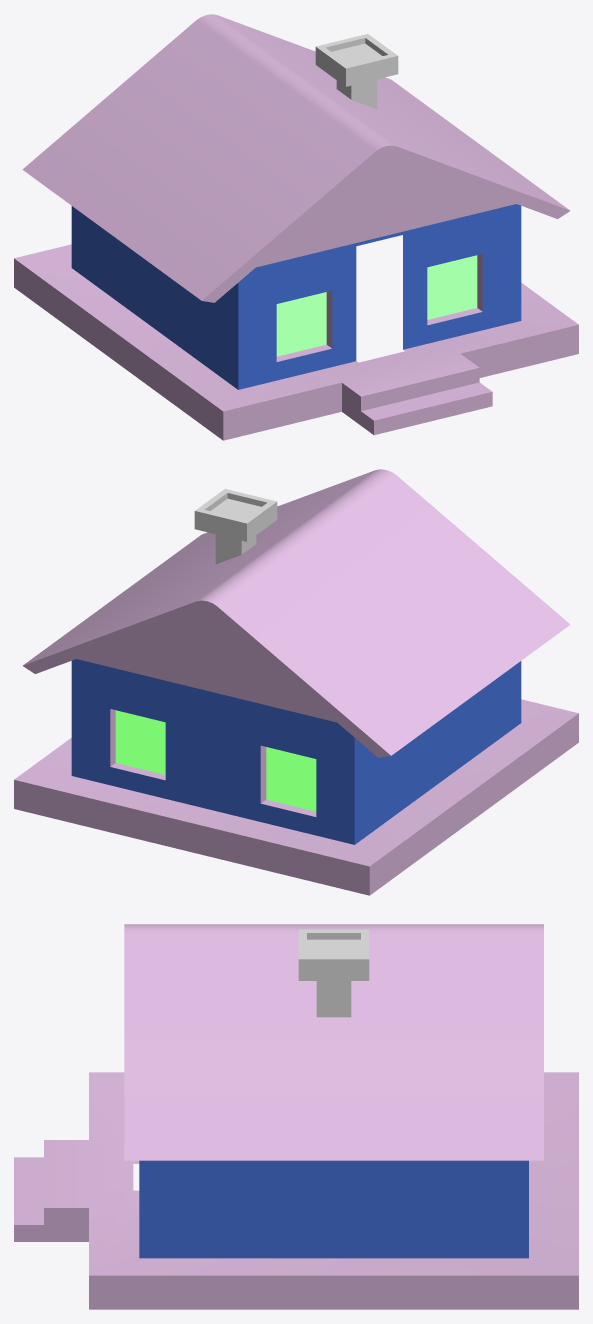
The model's file is 6660_autosave.fbx_Scene.fbx_Scene.fbx_Scene.fbx_Scene.fbx.
The picture shows the model from 3 angles, top to bottom: view 1: azimuth 30°, elevation 25°; view 2: azimuth 150°, elevation 25°; view 3: azimuth 270°, elevation 25°; orthographic projection. The views are drawn at different scales.
Visible parts, largest first — view 1: Cube, Roof, Window, Chimney; view 2: Cube, Roof, Window, Chimney; view 3: Roof, Cube, Chimney.
Part boxes in pixels (x1,y1,x2,y2): Cube: (14,155,578,440); Roof: (22,14,570,302); Window: (276,255,477,356); Chimney: (315,34,398,109); Cube: (14,610,578,895); Roof: (22,469,570,757); Window: (115,710,316,811); Chimney: (194,489,277,564); Roof: (124,924,543,1160); Cube: (14,1072,578,1309); Chimney: (298,929,369,1017).
Size of the model in its own units: 546 by 360 by 619.
